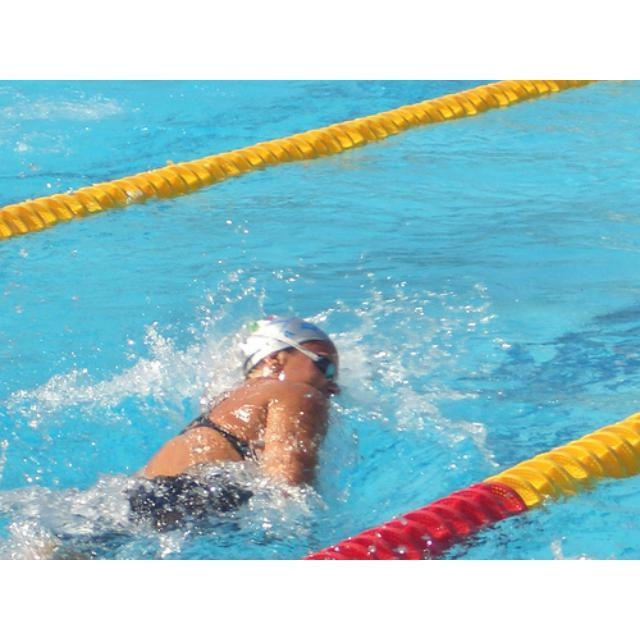human: (127, 308, 343, 544)
